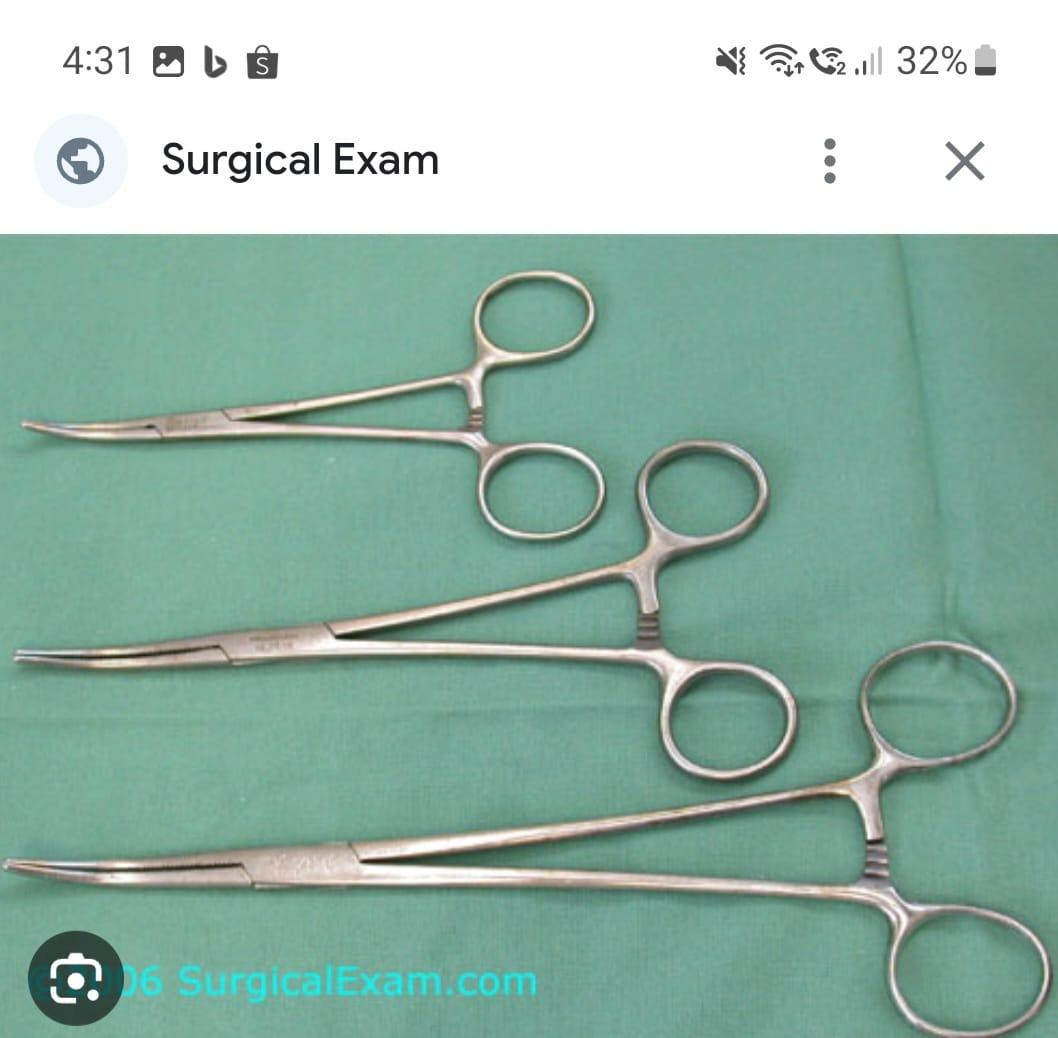Artery Forceps: (7, 622, 1058, 1038), (5, 422, 817, 798), (3, 253, 622, 542)
